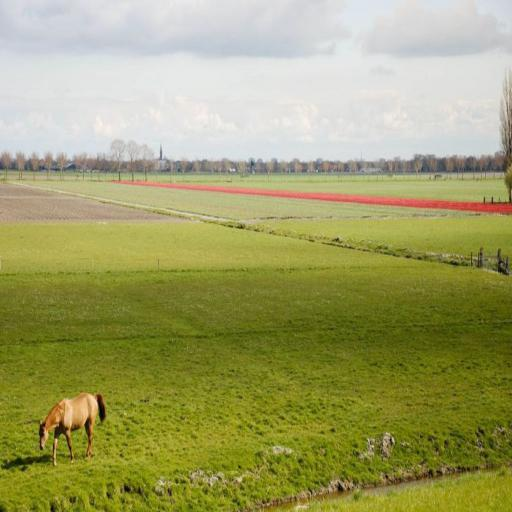Horse: (36, 391, 104, 467)
